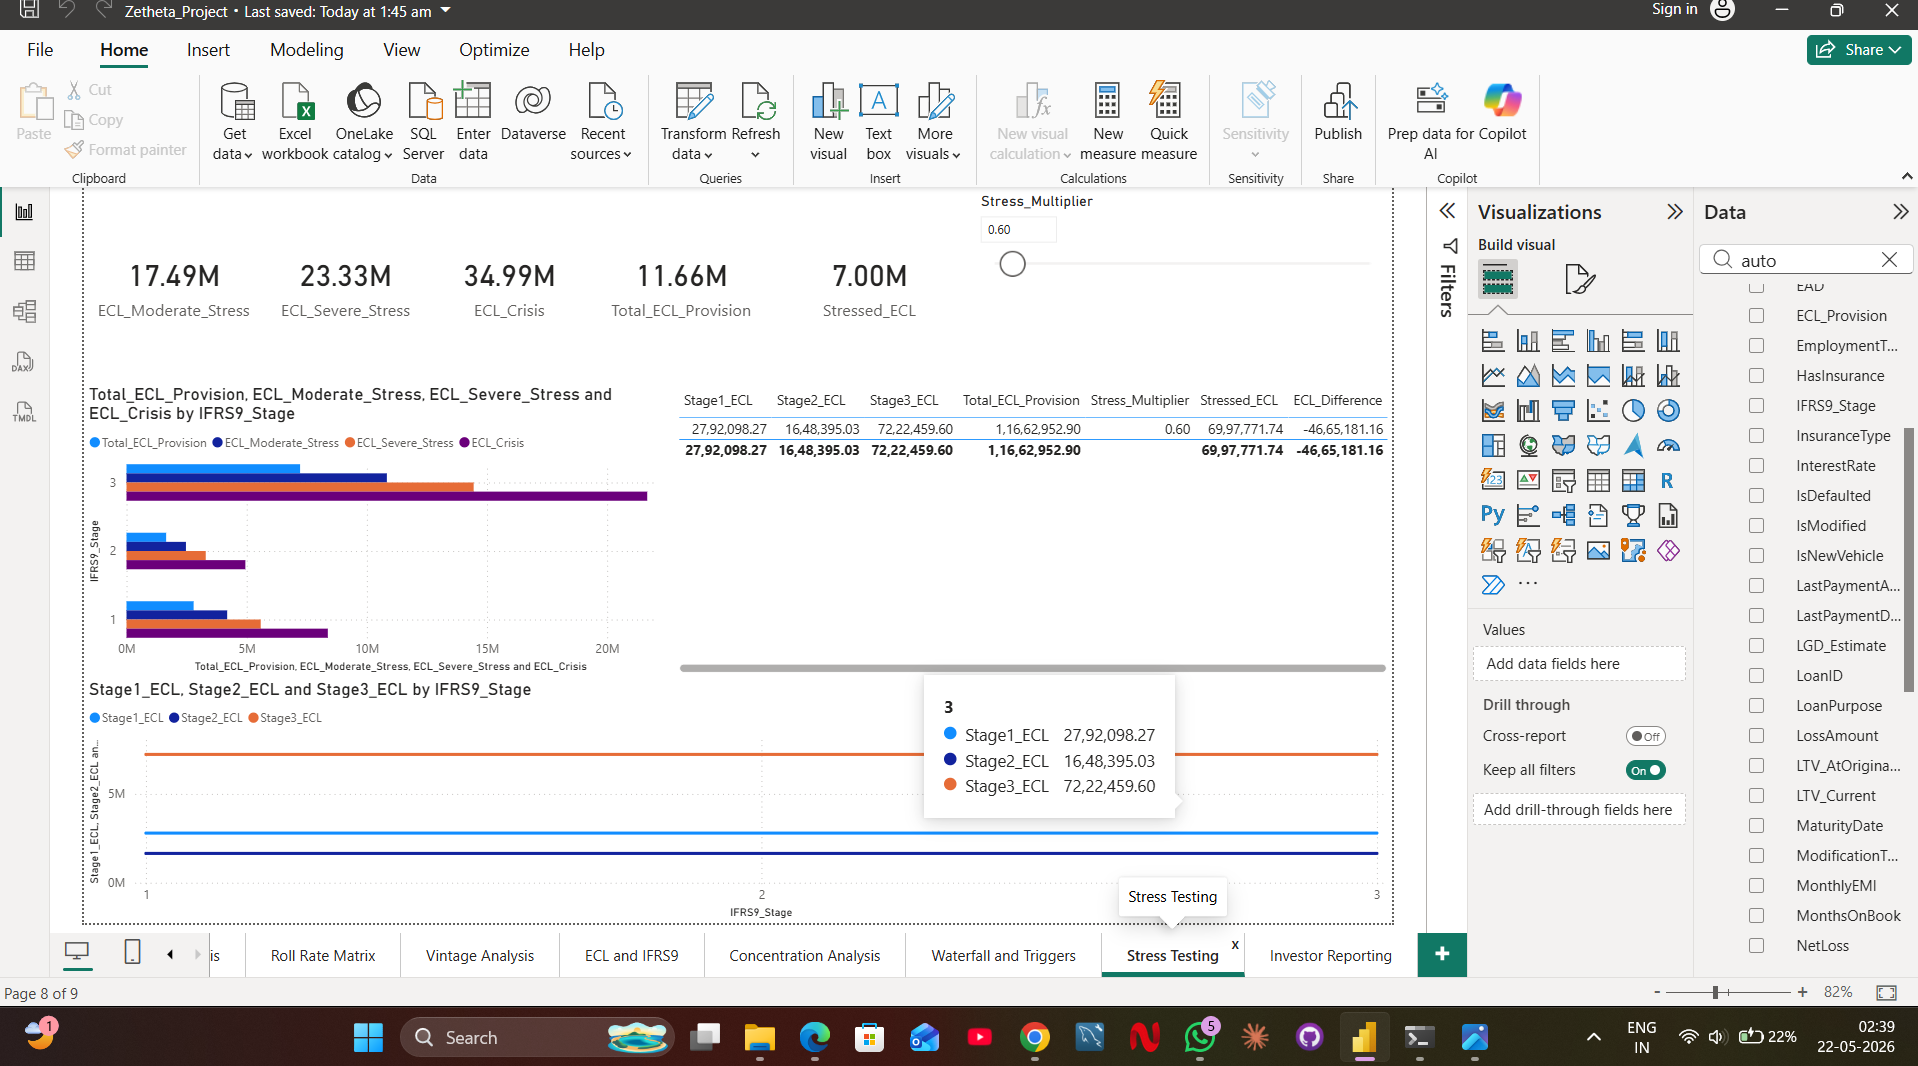

This screenshot's page, from the dashboard's own definition file:
{"tool":"powerbi","page":{"name":"Stress Testing","canvas":[1280,720],"ordinal":7},"visuals":[{"type":"slicer","fields":{"Values":["Stress_Multiplier.Stress_Multiplier"]},"box":[864,0,416,192],"z":0},{"type":"card","fields":{"Values":["_Measures.ECL_Moderate_Stress"]},"box":[0,0,176,192],"z":1000},{"type":"card","fields":{"Values":["_Measures.ECL_Severe_Stress"]},"box":[176,0,160,192],"z":2000},{"type":"card","fields":{"Values":["_Measures.ECL_Crisis"]},"box":[336,0,160,192],"z":3000},{"type":"clusteredBarChart","fields":{"Category":["auto_loan_scrutinization_data.IFRS9_Stage"],"Y":["_Measures.Total_ECL_Provision","_Measures.ECL_Moderate_Stress","_Measures.ECL_Severe_Stress","_Measures.ECL_Crisis"]},"box":[0,192,576,288],"z":4000},{"type":"tableEx","fields":{"Values":["_Measures.Stage1_ECL","_Measures.Stage2_ECL","_Measures.Stage3_ECL","_Measures.Total_ECL_Provision","Stress_Multiplier.Stress_Multiplier","_Measures.Stressed_ECL","_Measures.ECL_Difference"]},"box":[576,192,704,288],"z":5000},{"type":"lineChart","fields":{"Category":["auto_loan_scrutinization_data.IFRS9_Stage"],"Y":["_Measures.Stage1_ECL","_Measures.Stage2_ECL","_Measures.Stage3_ECL"]},"box":[0,480,1280,240],"z":6000},{"type":"card","fields":{"Values":["_Measures.Total_ECL_Provision"]},"box":[496,0,176,192],"z":7000},{"type":"card","fields":{"Values":["_Measures.Stressed_ECL"]},"box":[672,0,192,192],"z":8000}]}

Visuals, with their boxes on the page's 1280x720 design canvas (x1, y1, x2, y2). These are canvas units, not pixel positions in the 1918x1066 screenshot, which may show the page scaled, cropped or inside an application window:
slicer - Stress_Multiplier.Stress_Multiplier: bbox(864, 0, 1280, 192)
card - _Measures.ECL_Moderate_Stress: bbox(0, 0, 176, 192)
card - _Measures.ECL_Severe_Stress: bbox(176, 0, 336, 192)
card - _Measures.ECL_Crisis: bbox(336, 0, 496, 192)
clusteredBarChart - auto_loan_scrutinization_data.IFRS9_Stage x _Measures.Total_ECL_Provision: bbox(0, 192, 576, 480)
tableEx - _Measures.Stage1_ECL x _Measures.Stage2_ECL: bbox(576, 192, 1280, 480)
lineChart - auto_loan_scrutinization_data.IFRS9_Stage x _Measures.Stage1_ECL: bbox(0, 480, 1280, 720)
card - _Measures.Total_ECL_Provision: bbox(496, 0, 672, 192)
card - _Measures.Stressed_ECL: bbox(672, 0, 864, 192)
